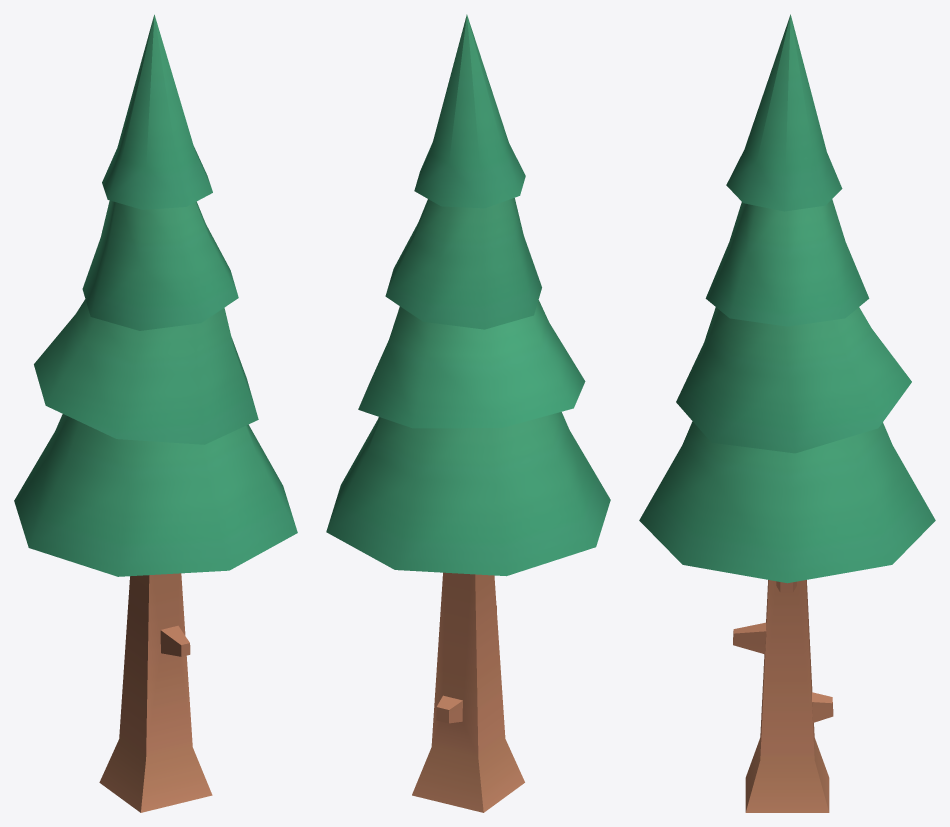
File: k-fantasy-town-tree-high-crooked.glb
3 views of the same model, side by side, from view 1: azimuth 30°, elevation 25°; view 2: azimuth 150°, elevation 25°; view 3: azimuth 270°, elevation 25° (orthographic).
Parts seen in each view (by area): view 1: tree-high-crooked; view 2: tree-high-crooked; view 3: tree-high-crooked.
Boxes of the visible parts, box(x1,y1,x2,y2) form: tree-high-crooked: box(14, 14, 297, 812); tree-high-crooked: box(326, 14, 610, 812); tree-high-crooked: box(639, 14, 935, 812).
Size of the model in its own units: 1.02 by 2.97 by 1.02.
Materials: 1 (1 with a texture image).
